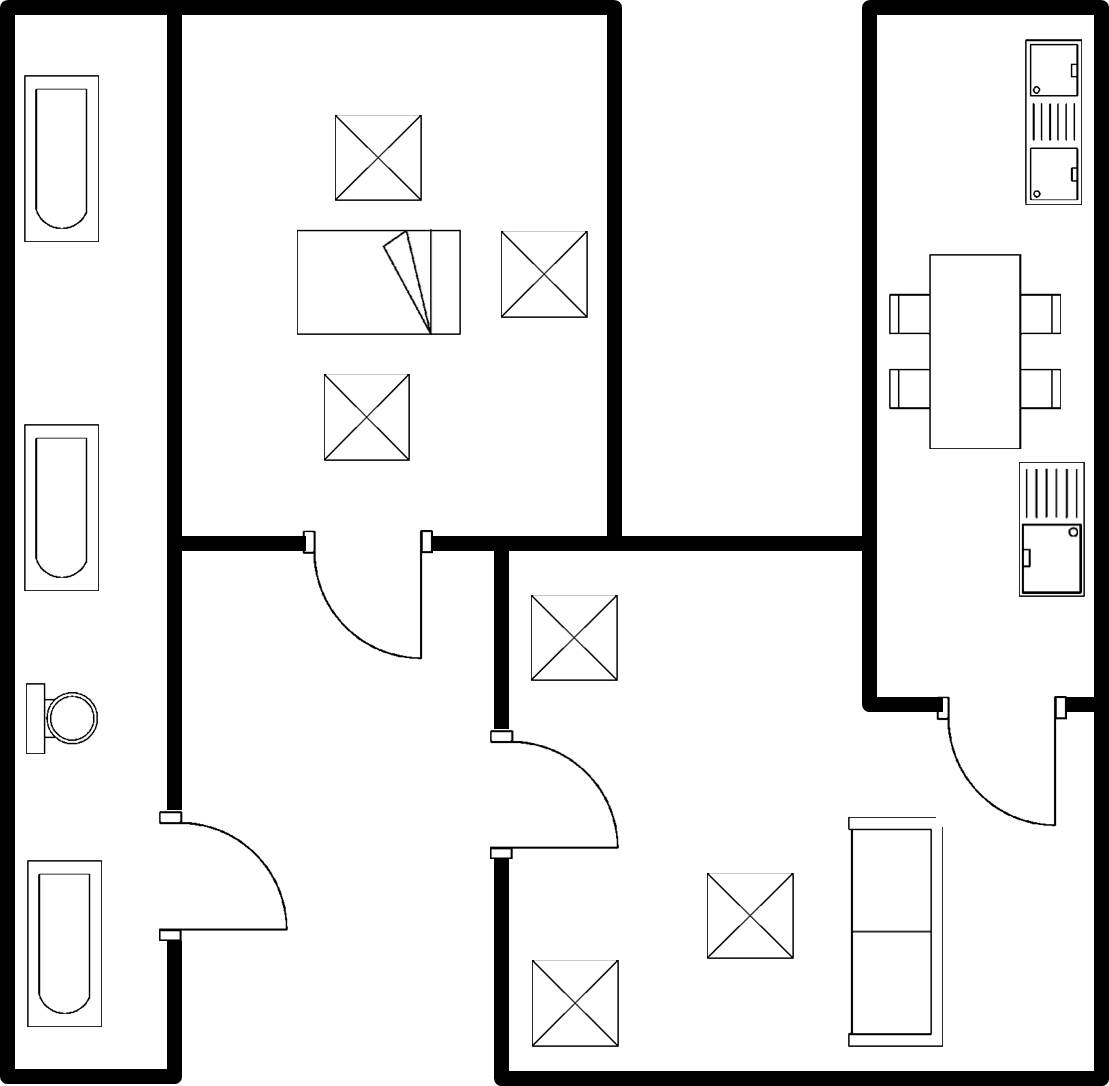bed: (288, 221, 469, 348)
coffee_table: (696, 861, 804, 971), (315, 364, 421, 473), (519, 585, 627, 690), (524, 950, 627, 1057), (328, 107, 431, 210), (492, 225, 594, 325)
dining_table: (883, 247, 1068, 457)
large_sink: (21, 677, 104, 762)
large_sofa: (836, 808, 950, 1055)
sink: (1010, 455, 1092, 610)
tub: (18, 64, 110, 255), (18, 417, 107, 600), (19, 851, 108, 1033)
twin_sink: (1018, 33, 1090, 218)
